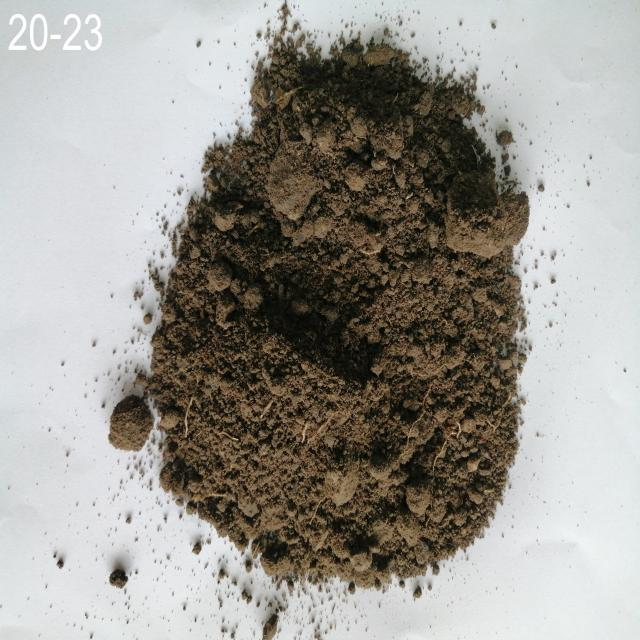soil: (264, 125, 446, 512)
